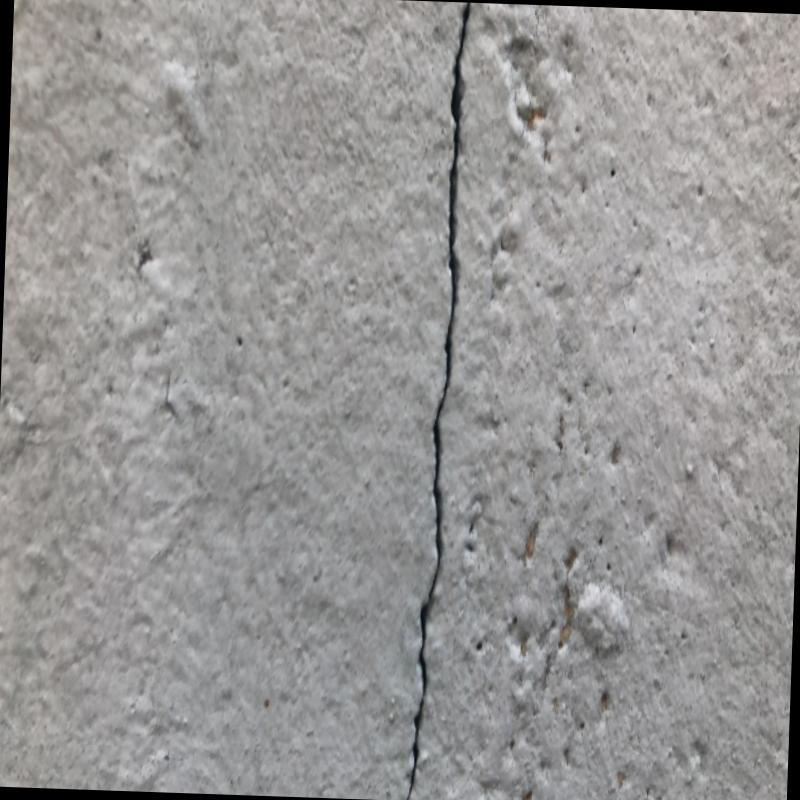pothole: (406, 2, 469, 799)
